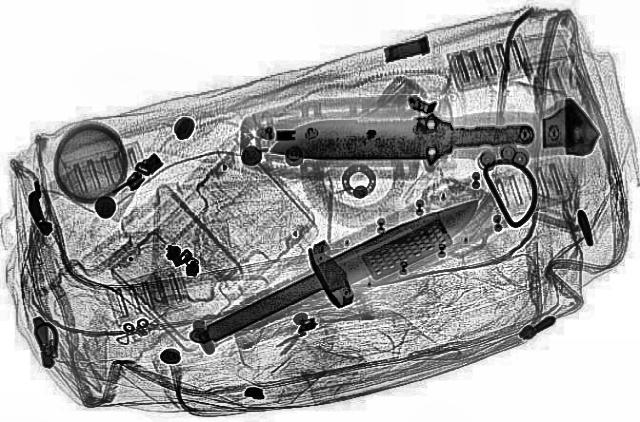Knife: (187, 190, 496, 350), (268, 117, 534, 159)
